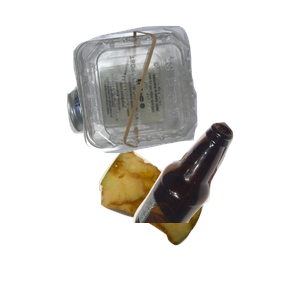glass: (130, 120, 300, 300)
metal: (65, 65, 231, 192)
plastic: (71, 23, 300, 169)
trash: (96, 145, 295, 300)
